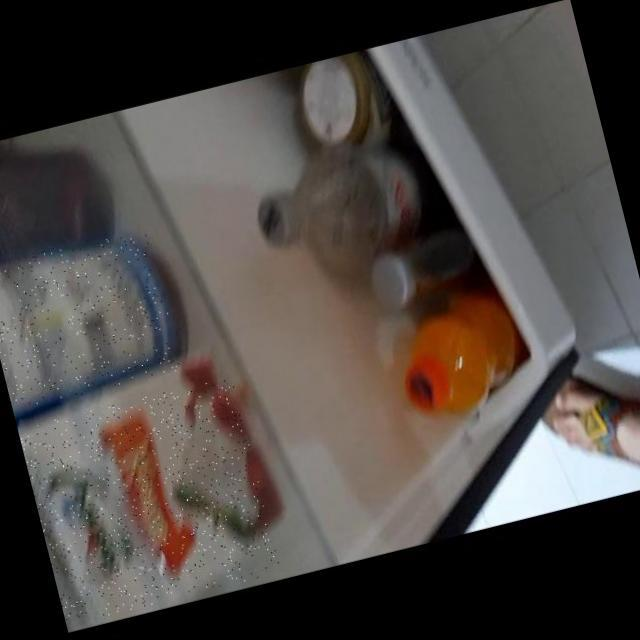cream cheese: (17, 375, 280, 624)
sauce: (0, 226, 181, 410)
